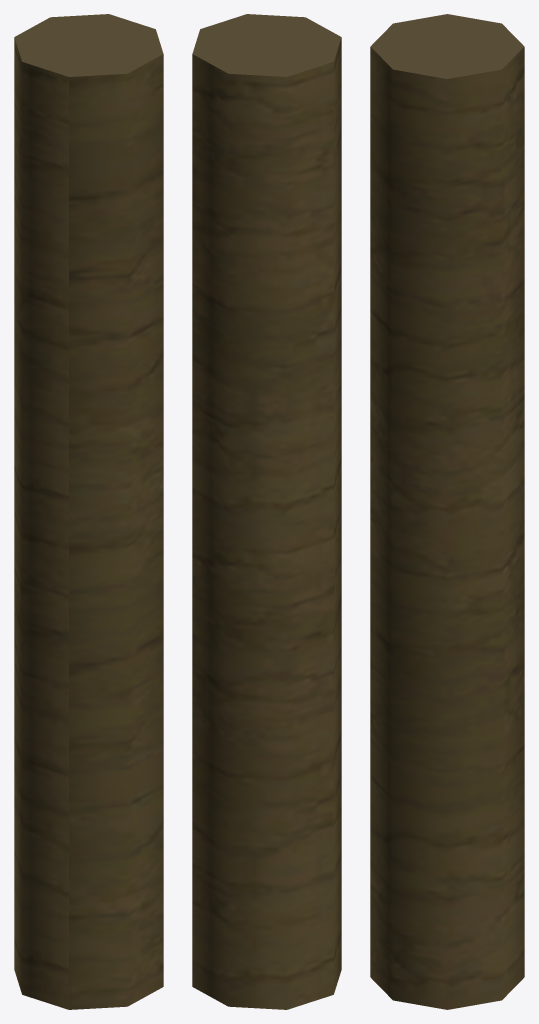
3 views of the same model, side by side, from view 1: azimuth 30°, elevation 25°; view 2: azimuth 150°, elevation 25°; view 3: azimuth 270°, elevation 25° (orthographic).
Visible parts, largest first — view 1: Joint_0_Object_0; view 2: Joint_0_Object_0; view 3: Joint_0_Object_0.
Part boxes in pixels (x1,y1,x2,y2): Joint_0_Object_0: (14,14,163,1009); Joint_0_Object_0: (192,14,341,1009); Joint_0_Object_0: (370,14,524,1009).
Bounding box in the file's own units: 60 × 400 × 60.
